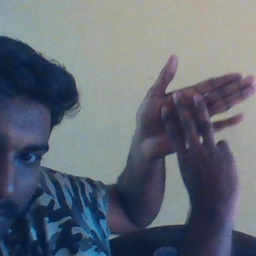M: (129, 54, 255, 199)
